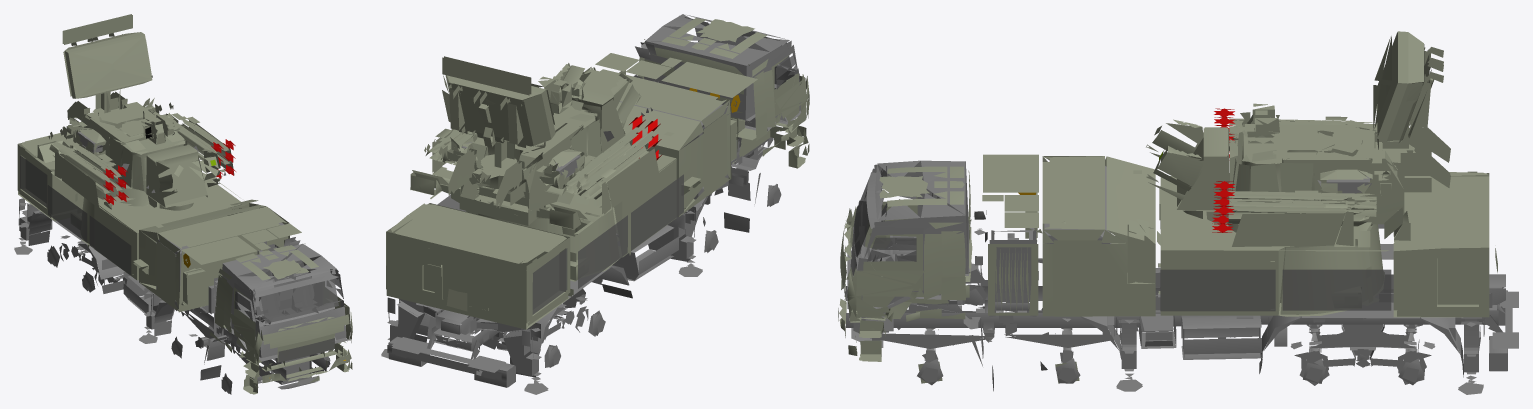
The model's file is pantsir_s1_lod2.glb.
3 renders of one model, left to right at view 1: azimuth 30°, elevation 25°; view 2: azimuth 150°, elevation 25°; view 3: azimuth 270°, elevation 25°, orthographic. The views are drawn at different scales.
Parts seen in each view (by area): view 1: Body; view 2: Body; view 3: Body.
Boxes of the visible parts, x1=… form: Body: x1=14, y1=14, x2=352, y2=394; Body: x1=381, y1=14, x2=809, y2=394; Body: x1=838, y1=31, x2=1518, y2=394.
Bounding box in the file's own units: 3.02 × 4.91 × 9.43.
